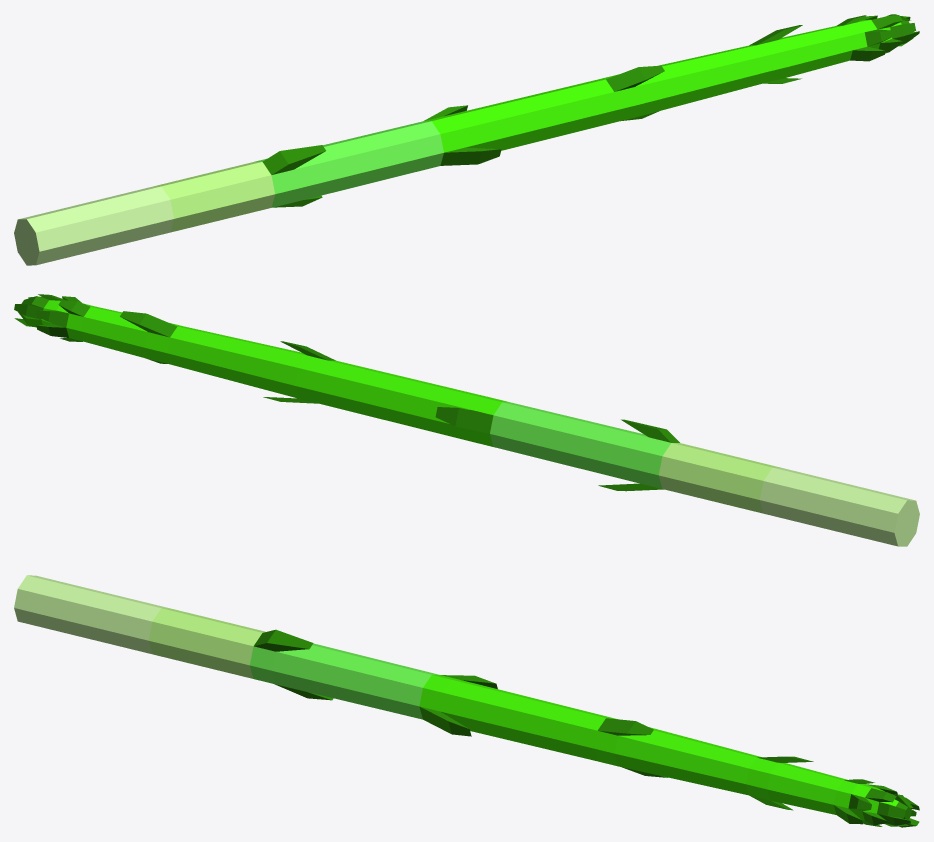
The model's file is asparagus01.gltf.
3 renders of one model, top to bottom at view 1: azimuth 30°, elevation 25°; view 2: azimuth 150°, elevation 25°; view 3: azimuth 330°, elevation 25°, orthographic.
Visible parts, largest first — view 1: Cylinder; view 2: Cylinder; view 3: Cylinder.
Boxes of the visible parts, bbox=[...] form: Cylinder: bbox=[14, 14, 919, 265]; Cylinder: bbox=[14, 294, 919, 546]; Cylinder: bbox=[14, 575, 919, 827].
Size of the model in its own units: 0.2082 by 0.0146 by 0.0137.
1 material, 1 textured.
